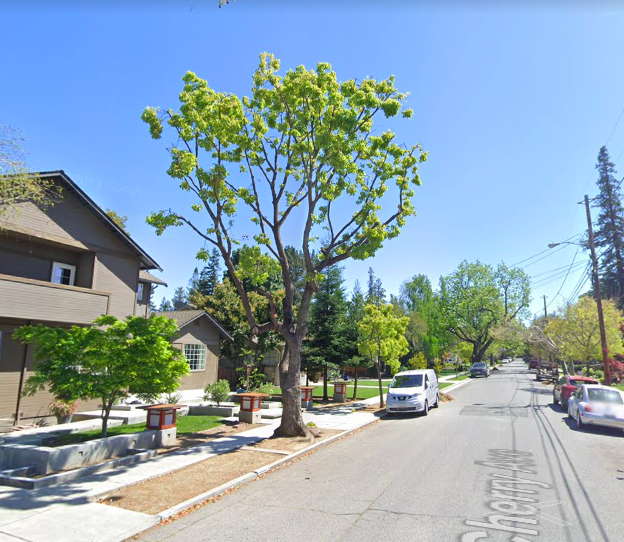tree: (139, 49, 431, 439)
